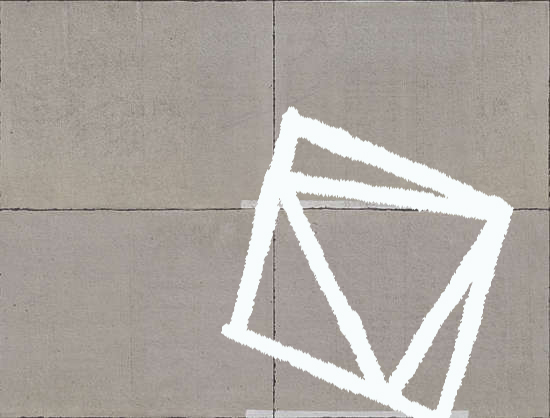marker: (218, 102, 522, 418)
